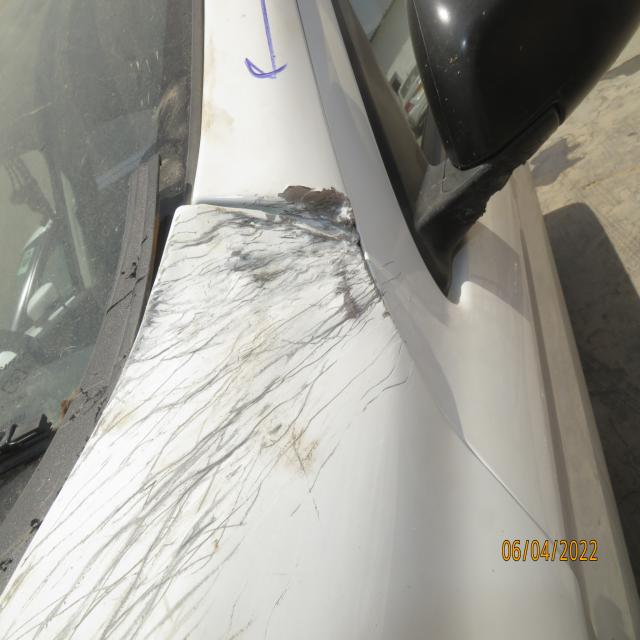damage: (0, 213, 372, 640), (256, 168, 369, 211)
